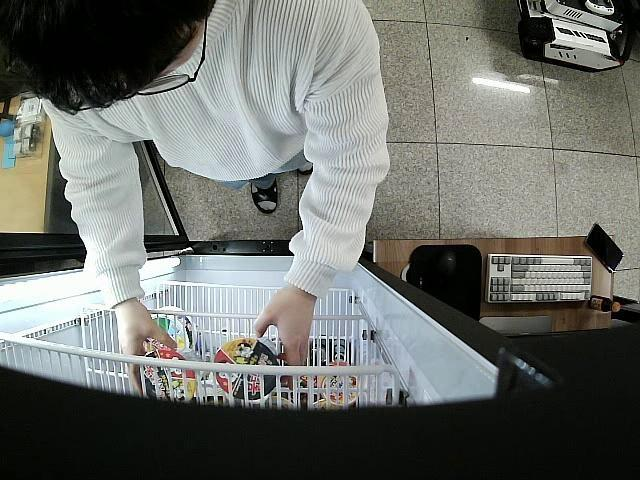08_buldak_S: (214, 336, 279, 400), (140, 346, 204, 406)
